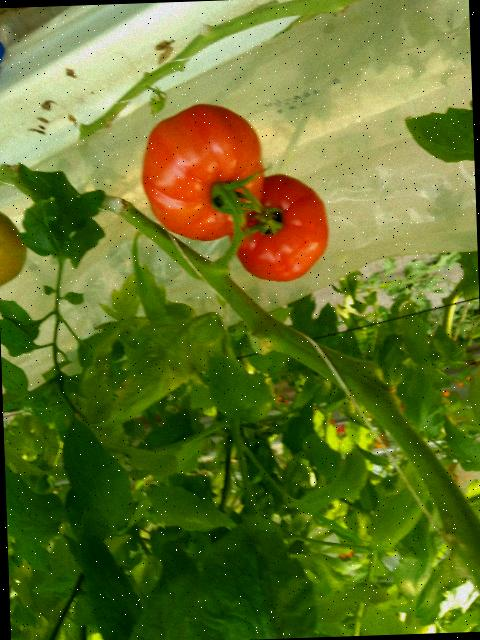b_fully_ripened: (139, 102, 266, 243), (227, 172, 329, 284)
b_green: (0, 205, 28, 291)
